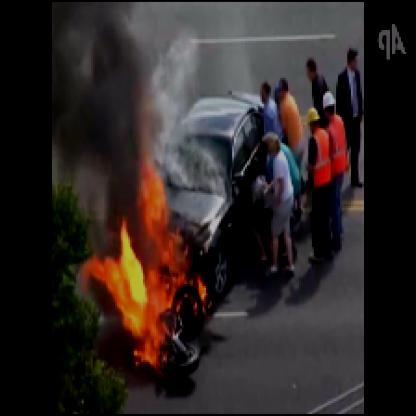Fire: (82, 121, 212, 382)
Smoke: (55, 2, 148, 228)
